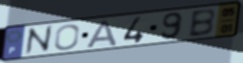4: (122, 15, 146, 44)
9: (160, 11, 185, 41)
A: (85, 19, 119, 49)
B: (187, 7, 217, 39)
N: (24, 24, 54, 57)
O: (53, 23, 81, 52)
